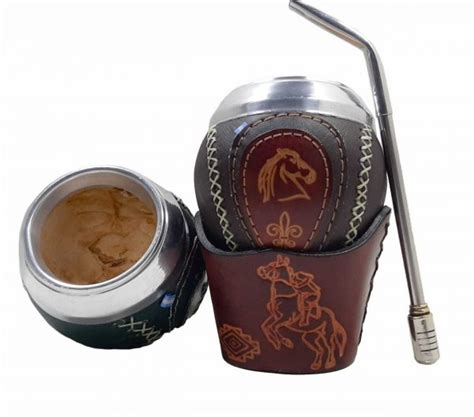cuero: (190, 110, 393, 375)
